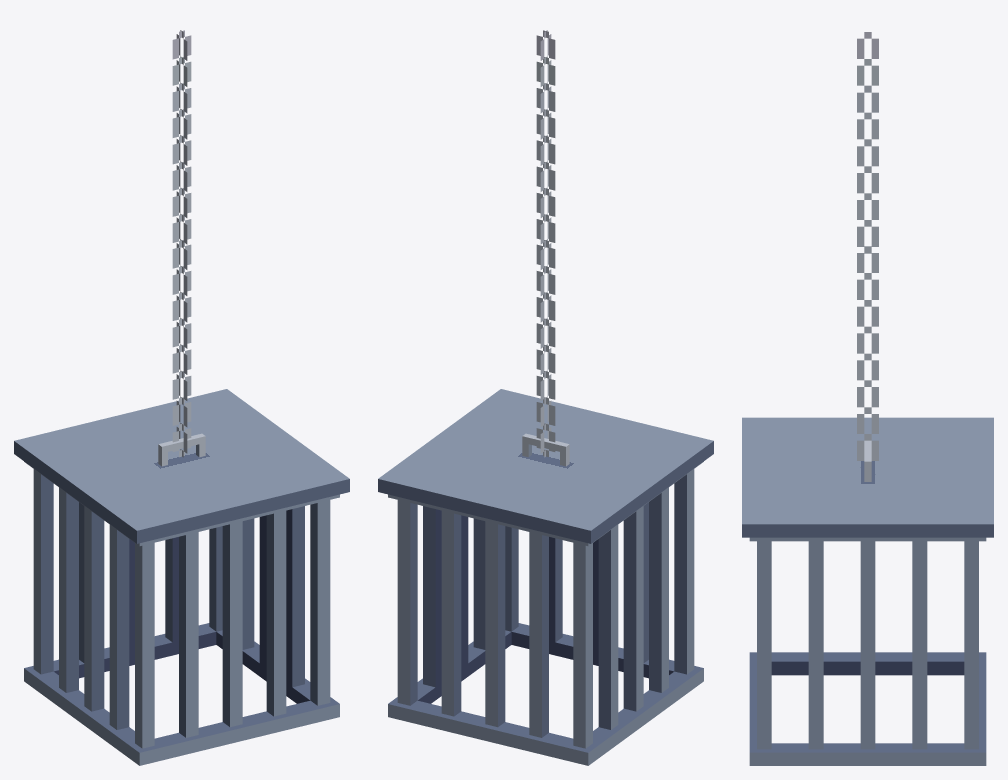
File: cage.gltf
3 renders of one model, left to right at view 1: azimuth 30°, elevation 25°; view 2: azimuth 150°, elevation 25°; view 3: azimuth 270°, elevation 25°, orthographic. The views are drawn at different scales.
Parts seen in each view (by area): view 1: cuboid (×20), plane (×4); view 2: cuboid (×20), plane (×4); view 3: cuboid (×8), plane (×2).
Boxes of the visible parts, bbox=[...] form: cuboid (×20): bbox=[14, 389, 349, 765]; plane (×4): bbox=[172, 30, 191, 457]; cuboid (×20): bbox=[378, 389, 713, 765]; plane (×4): bbox=[536, 30, 555, 457]; cuboid (×8): bbox=[742, 417, 993, 765]; plane (×2): bbox=[857, 32, 878, 460].
Bounding box in the file's own units: 2.12 × 6.49 × 2.12.
1 material, 1 textured.
